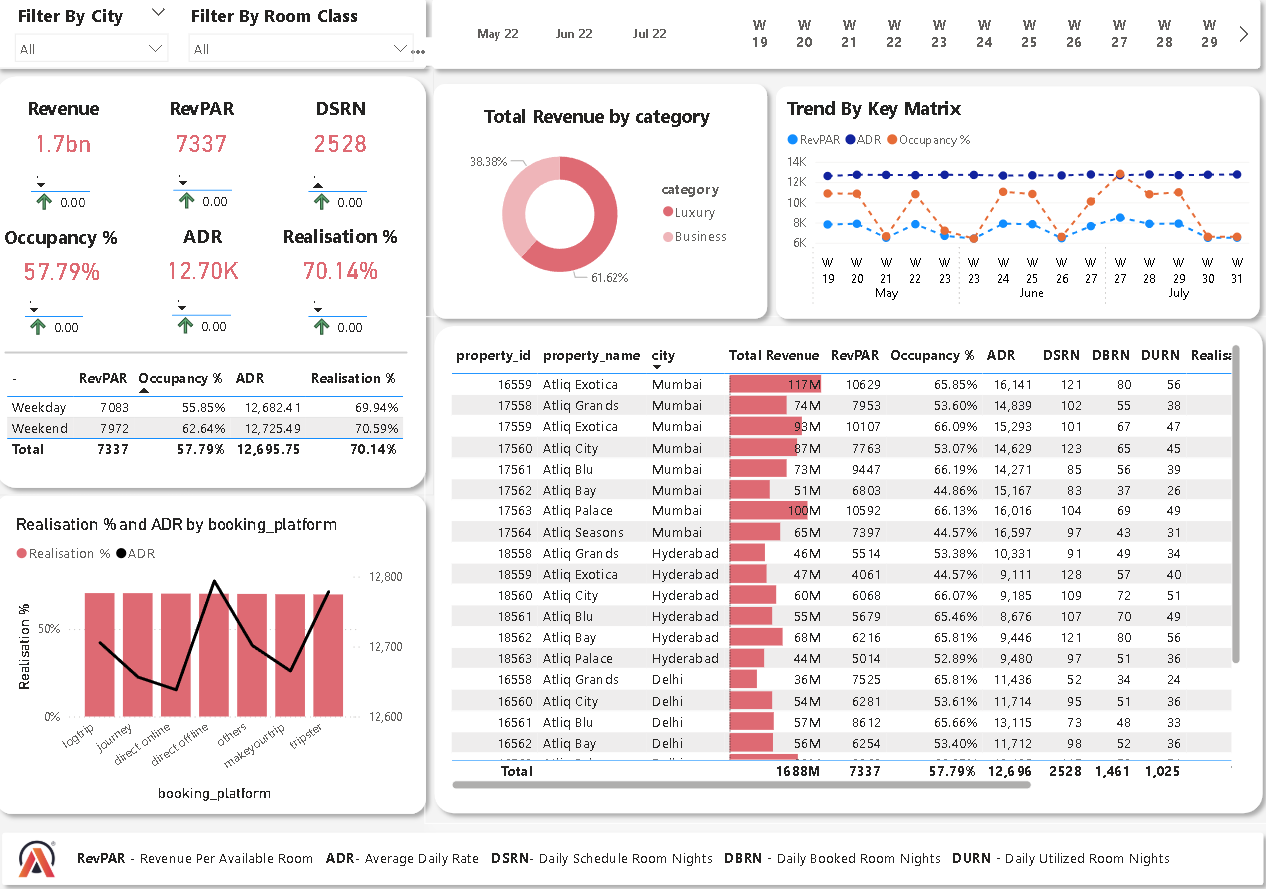

This screenshot's page, from the dashboard's own definition file:
{"tool":"powerbi","page":{"name":"Main Dashboard","canvas":[1280,900],"ordinal":0},"visuals":[{"type":"shape","box":[6.2,830.2,1274,69.8],"z":0},{"type":"shape","box":[0,493.7,446.3,336.6],"z":1000},{"type":"shape","box":[0,0,446.3,87.3],"z":2000},{"type":"shape","box":[435.1,0,842.7,87.3],"z":3000},{"type":"shape","box":[0,77.3,446.3,427.6],"z":4000},{"type":"shape","box":[435.2,325,845.2,505.3],"z":5000},{"type":"slicer","fields":{"Values":["dim_hotel.city"]},"box":[17.5,7.5,173.3,72.3],"z":6000},{"type":"slicer","fields":{"Values":["dim_rooms.room_class"]},"box":[190.7,7.5,244.3,68.6],"z":7000},{"type":"tableEx","fields":{"Values":["dim_hotel.property_id","dim_hotel.property_name","dim_hotel.city","Key Measure.Total Revenue","Key Measure.RevPAR","Key Measure.Occupancy %","Key Measure.ADR","Key Measure.DSRN","Key Measure.DBRN","Key Measure.DURN","Key Measure.Realisation %","Key Measure.Cancellation %"]},"box":[456.3,347.8,799.1,455],"z":8000},{"type":"slicer","fields":{"Values":["dim_date.week no"]},"box":[721.8,7.5,541,72.3],"z":9000},{"type":"slicer","fields":{"Values":["dim_date.mmm yy"]},"box":[447.5,10,274.3,66.1],"z":10000},{"type":"card","title":"Revenue","fields":{"Values":["Key Measure.Total Revenue"]},"box":[6.2,104.7,138.4,69.8],"z":11000},{"type":"card","title":"RevPAR","fields":{"Values":["Key Measure.RevPAR"]},"box":[144.6,104.7,138.4,69.8],"z":12000},{"type":"card","title":"Realisation %","fields":{"Values":["Key Measure.Realisation %"]},"box":[283,231.9,138.4,69.8],"z":13000},{"type":"card","title":"DSRN","fields":{"Values":["Key Measure.DSRN"]},"box":[283,104.7,138.4,69.8],"z":14000},{"type":"card","title":"Occupancy %","fields":{"Values":["Key Measure.Occupancy %"]},"box":[0,233.1,147.1,69.8],"z":15000},{"type":"card","title":"ADR","fields":{"Values":["Key Measure.ADR"]},"box":[145.9,231.9,138.4,69.8],"z":16000},{"type":"tableEx","fields":{"Values":["Key Measure.Revenue WoW change %"]},"box":[314.1,291.7,76,66.1],"z":17000},{"type":"tableEx","fields":{"Values":["Key Measure.Revenue WoW change %"]},"box":[314.1,167,76,66.1],"z":18000},{"type":"tableEx","fields":{"Values":["Key Measure.Revenue WoW change %"]},"box":[31.2,291.7,76,66.1],"z":19000},{"type":"tableEx","fields":{"Values":["Key Measure.Revenue WoW change %"]},"box":[179.5,165.8,76,66.1],"z":20000},{"type":"tableEx","fields":{"Values":["Key Measure.Revenue WoW change %"]},"box":[37.4,167,76,66.1],"z":21000},{"type":"tableEx","fields":{"Values":["Key Measure.Revenue WoW change %"]},"box":[178.3,290.5,76,66.1],"z":22000},{"type":"shape","box":[17.5,342.8,401.4,37.4],"z":23000},{"type":"shape","box":[435.2,85,350.2,251.5],"z":24000},{"type":"donutChart","fields":{"Y":["Key Measure.Total Revenue"],"Category":["dim_hotel.category"]},"box":[465,112.2,286.7,198.2],"z":25000},{"type":"shape","box":[777.4,87.3,499.5,249.2],"z":26000},{"type":"lineChart","title":"Trend By Key Matrix","fields":{"Y":["Key Measure.RevPAR","Key Measure.ADR"],"Category":["dim_date.mmm yy.Variation.Date Hierarchy.Month","dim_date.week no"],"Y2":["Key Measure.Occupancy %"]},"box":[791.6,104.7,471.2,219.4],"z":27000},{"type":"lineStackedColumnComboChart","fields":{"Category":["fact_bookings.booking_platform"],"Y":["Key Measure.Realisation %"],"Y2":["Key Measure.ADR"]},"box":[23.7,522.3,395.2,291.7],"z":28000},{"type":"tableEx","fields":{"Values":["dim_date.day_type","Key Measure.RevPAR","Key Measure.Occupancy %","Key Measure.ADR","Key Measure.Realisation %"]},"box":[13.7,371.5,417.6,122.2],"z":29000},{"type":"image","box":[23.7,841.5,52.4,47.4],"z":30000},{"type":"textbox","box":[84.8,850.2,1138.1,32.4],"z":30001}]}

Visuals, with their boxes in screenshot pixels (x1, y1, x2, y2), scaled from the page's 1280x900 canvas onto the 1266x889 screenshot:
shape: crop(6, 820, 1265, 888)
shape: crop(0, 488, 441, 820)
shape: crop(0, 0, 441, 86)
shape: crop(430, 0, 1264, 86)
shape: crop(0, 76, 441, 499)
shape: crop(430, 321, 1265, 820)
slicer - dim_hotel.city: crop(17, 7, 189, 79)
slicer - dim_rooms.room_class: crop(189, 7, 430, 75)
tableEx - dim_hotel.property_id x dim_hotel.property_name: crop(451, 344, 1242, 793)
slicer - dim_date.week no: crop(714, 7, 1249, 79)
slicer - dim_date.mmm yy: crop(443, 10, 714, 75)
"Revenue" card: crop(6, 103, 143, 172)
"RevPAR" card: crop(143, 103, 280, 172)
"Realisation %" card: crop(280, 229, 417, 298)
"DSRN" card: crop(280, 103, 417, 172)
"Occupancy %" card: crop(0, 230, 145, 299)
"ADR" card: crop(144, 229, 281, 298)
tableEx - Key Measure.Revenue WoW change %: crop(311, 288, 386, 353)
tableEx - Key Measure.Revenue WoW change %: crop(311, 165, 386, 230)
tableEx - Key Measure.Revenue WoW change %: crop(31, 288, 106, 353)
tableEx - Key Measure.Revenue WoW change %: crop(178, 164, 253, 229)
tableEx - Key Measure.Revenue WoW change %: crop(37, 165, 112, 230)
tableEx - Key Measure.Revenue WoW change %: crop(176, 287, 252, 352)
shape: crop(17, 339, 414, 376)
shape: crop(430, 84, 777, 332)
donutChart - Key Measure.Total Revenue x dim_hotel.category: crop(460, 111, 743, 307)
shape: crop(769, 86, 1263, 332)
"Trend By Key Matrix" lineChart: crop(783, 103, 1249, 320)
lineStackedColumnComboChart - fact_bookings.booking_platform x Key Measure.Realisation %: crop(23, 516, 414, 804)
tableEx - dim_date.day_type x Key Measure.RevPAR: crop(14, 367, 427, 488)
image: crop(23, 831, 75, 878)
textbox: crop(84, 840, 1210, 872)
